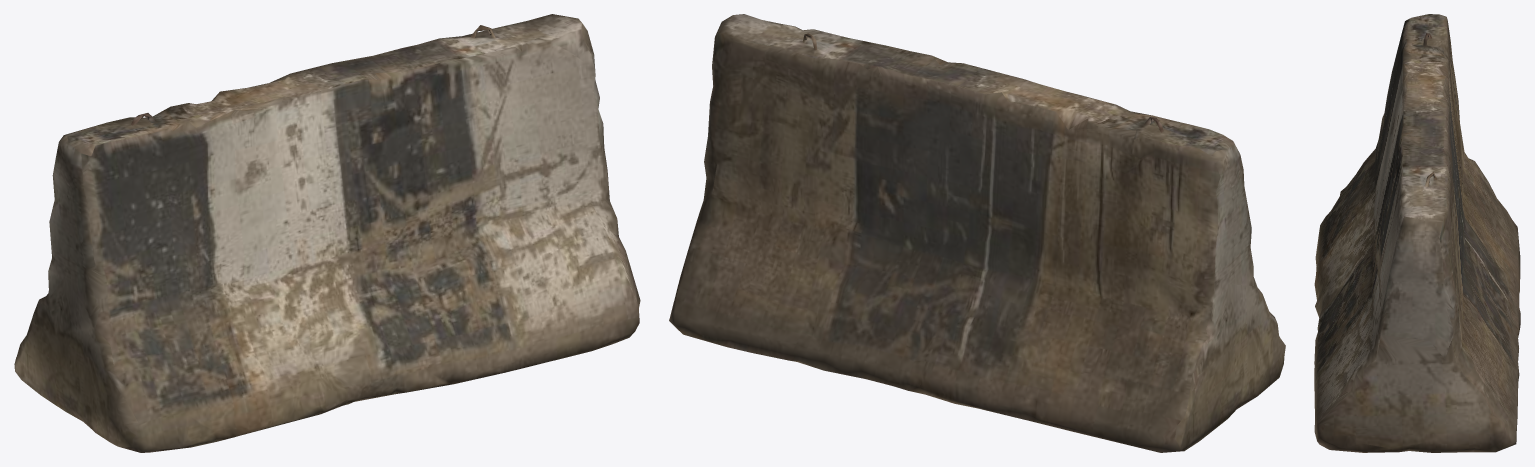
3 views of the same model, side by side, from view 1: azimuth 30°, elevation 25°; view 2: azimuth 150°, elevation 25°; view 3: azimuth 270°, elevation 25° (orthographic). The views are drawn at different scales.
Parts seen in each view (by area): view 1: concrete_road_barrier; view 2: concrete_road_barrier; view 3: concrete_road_barrier.
Part boxes in pixels (left/top/right/bottom): concrete_road_barrier: left=14, top=14, right=640, bottom=452; concrete_road_barrier: left=669, top=14, right=1285, bottom=452; concrete_road_barrier: left=1314, top=14, right=1520, bottom=452.
Size of the model in its own units: 1.54 by 0.8346 by 0.6338.
1 material, 1 textured.
